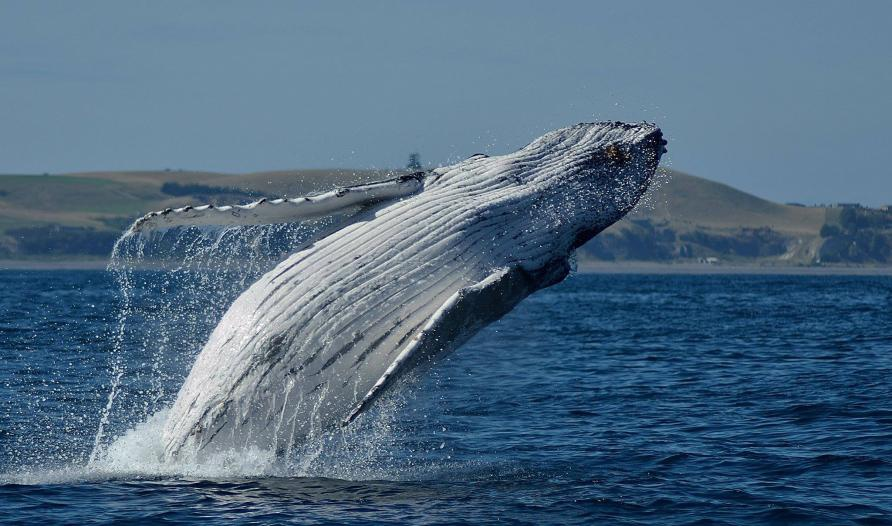humpback: (161, 117, 668, 463)
